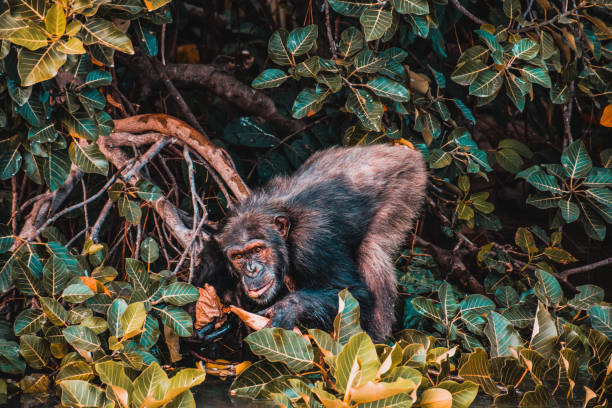chimpanzee: (212, 196, 298, 317)
